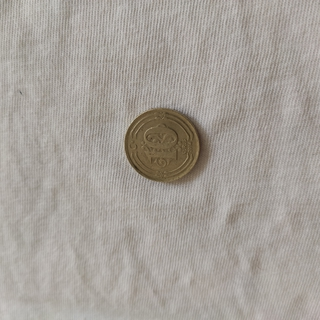10KURUS: (123, 106, 202, 183)
